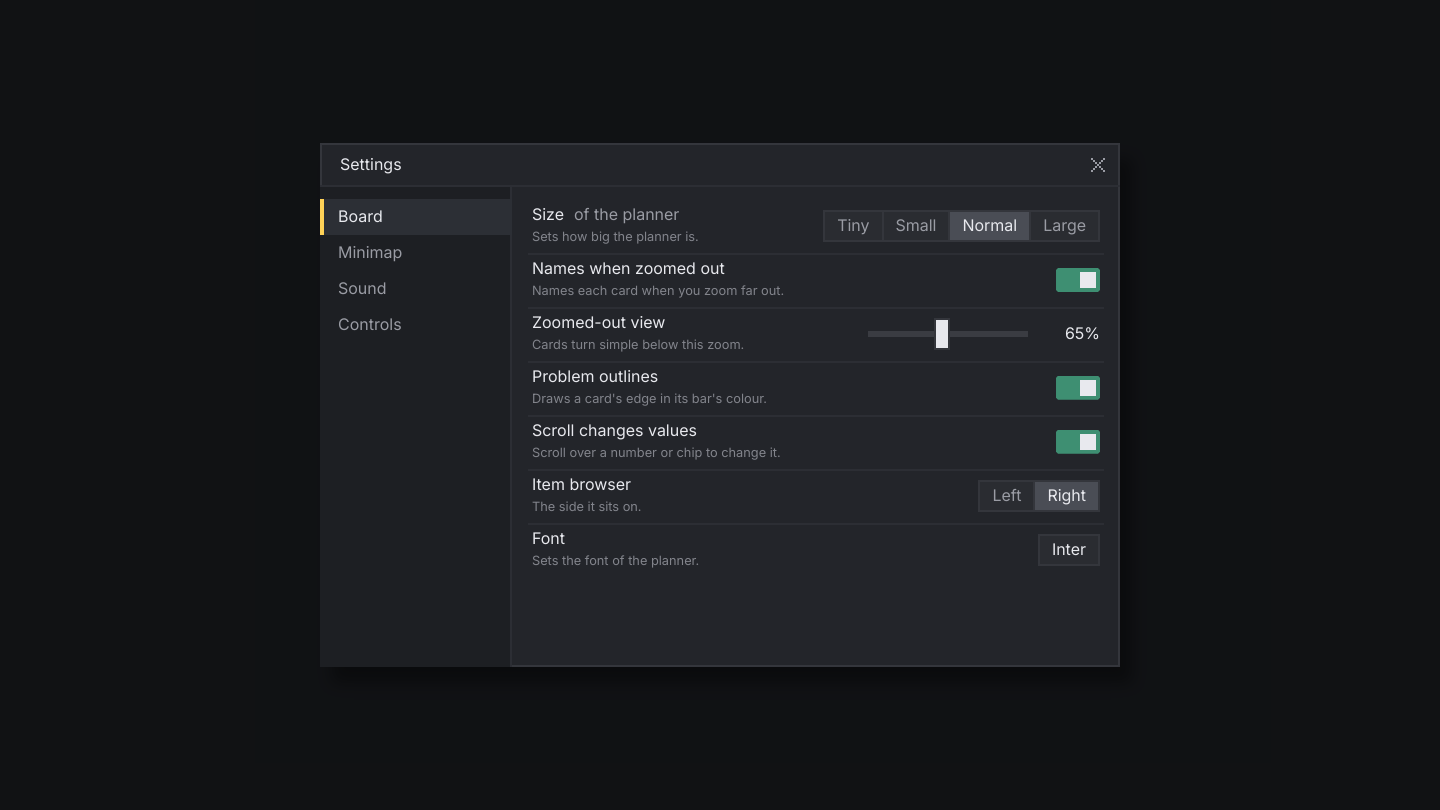
the settings box › Zoomed-out view is a slider of zooms, at 65% until moved, and moving it saves the zoom
The width and height of the screenshot is (1440, 810).
Expected: the text with class "ms-value" reads "65%", left=1065, top=324, right=1100, bottom=343
Set the slider named "Zoomed-out view" to "11" at (998, 334), box left=868, top=320, right=1028, bottom=348
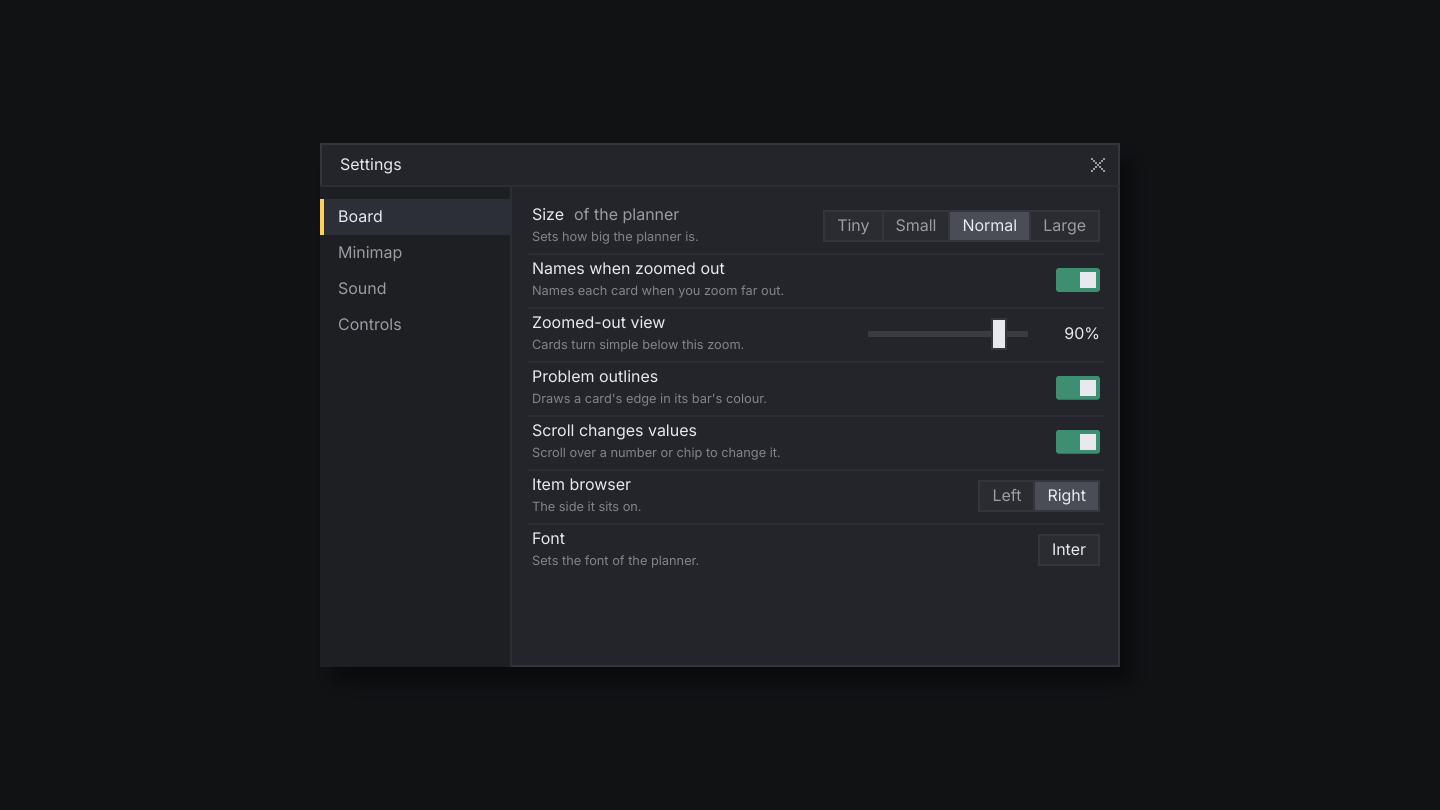
Result: the text with class "ms-value" reads "90%" at left=1064, top=324, right=1100, bottom=343
